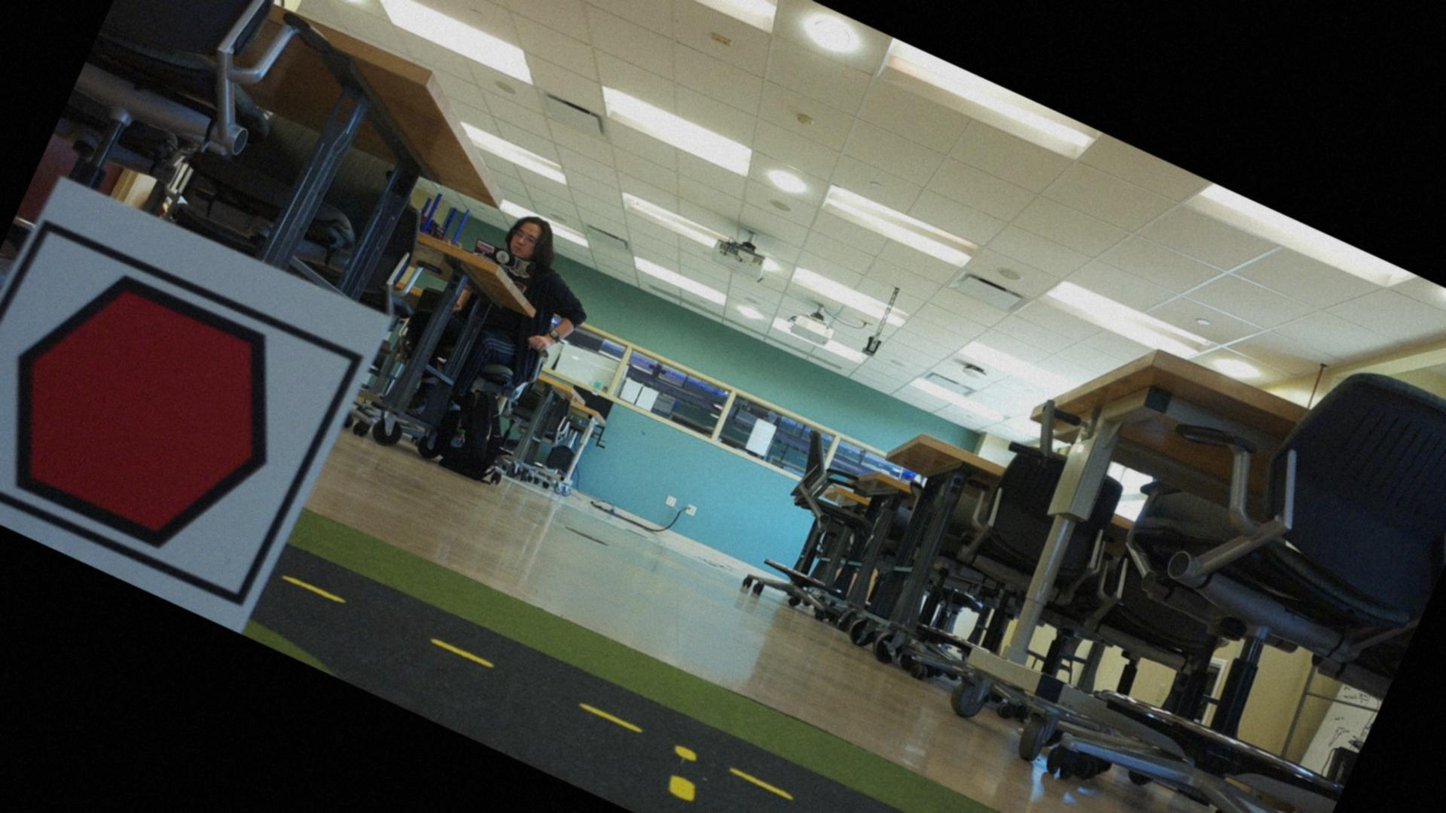stop: (0, 222, 359, 610)
yellowline: (286, 559, 1250, 812), (651, 740, 719, 811)
